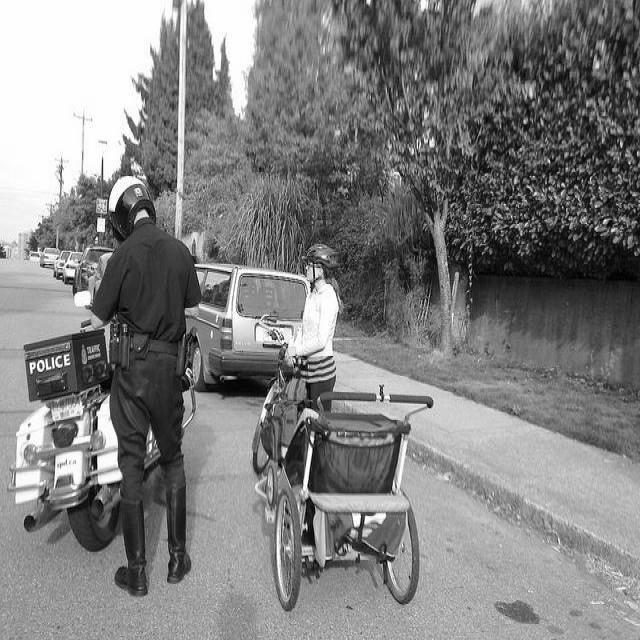vehicle: (2, 291, 208, 557), (179, 259, 304, 393), (73, 245, 115, 289), (88, 252, 114, 300), (61, 252, 80, 284), (53, 251, 71, 280), (40, 248, 60, 268), (27, 251, 41, 263)
